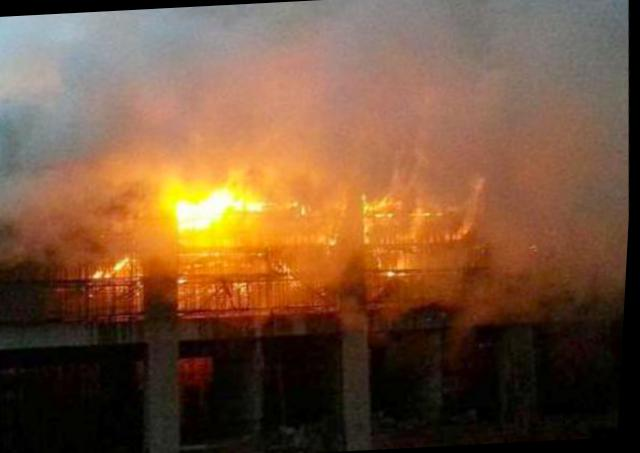fire: (168, 170, 283, 248), (361, 194, 437, 277), (307, 198, 350, 248), (96, 255, 137, 279)
